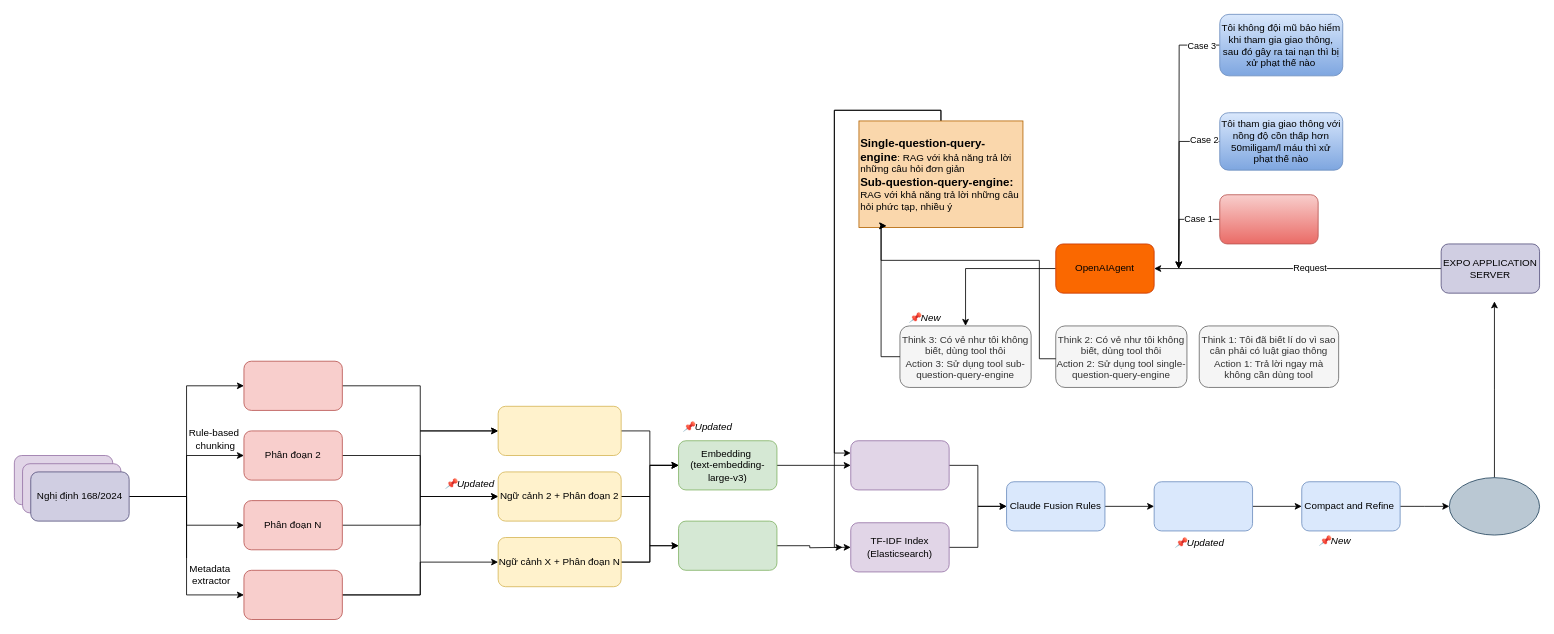
The diagram is 1554 pixels wide and 634 high, and some of its shapes have lost their labels. The box of each missing label's shape, as (x1, y1, x2, y2) in pixels:
Final Response: (1449, 477, 1540, 535)
GPT Reranker (gpt-4o-mini): (1153, 481, 1253, 531)
Metadata: (243, 569, 342, 620)
Ngữ cảnh 1 + Phân đoạn 1: (497, 405, 621, 456)
Phân đoạn 1: (243, 360, 342, 410)
Qdrant Vector Database: (850, 440, 949, 490)
TF-IDF Encoding: (678, 520, 777, 570)
Tại sao cần có luật giao thông?: (1219, 194, 1318, 244)
